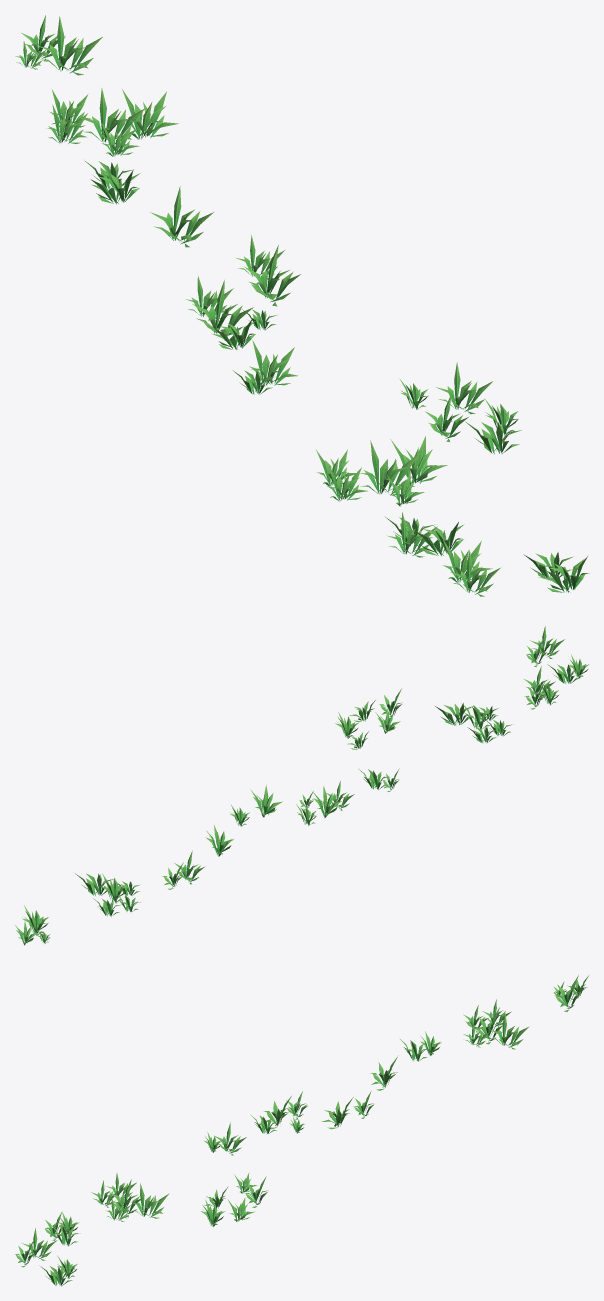
Rendered from area_05_1.FBX.
The picture shows the model from 3 angles, top to bottom: view 1: azimuth 30°, elevation 25°; view 2: azimuth 150°, elevation 25°; view 3: azimuth 330°, elevation 25°; orthographic projection. The views are drawn at different scales.
Visible parts, largest first — view 1: area_05_1; view 2: area_05_1; view 3: area_05_1.
Part boxes in pixels (x1=…): area_05_1: x1=15, y1=15, x2=589, y2=596; area_05_1: x1=15, y1=626, x2=589, y2=945; area_05_1: x1=15, y1=975, x2=588, y2=1286.
Size of the model in its own units: 7.72 by 1.19 by 32.58.
